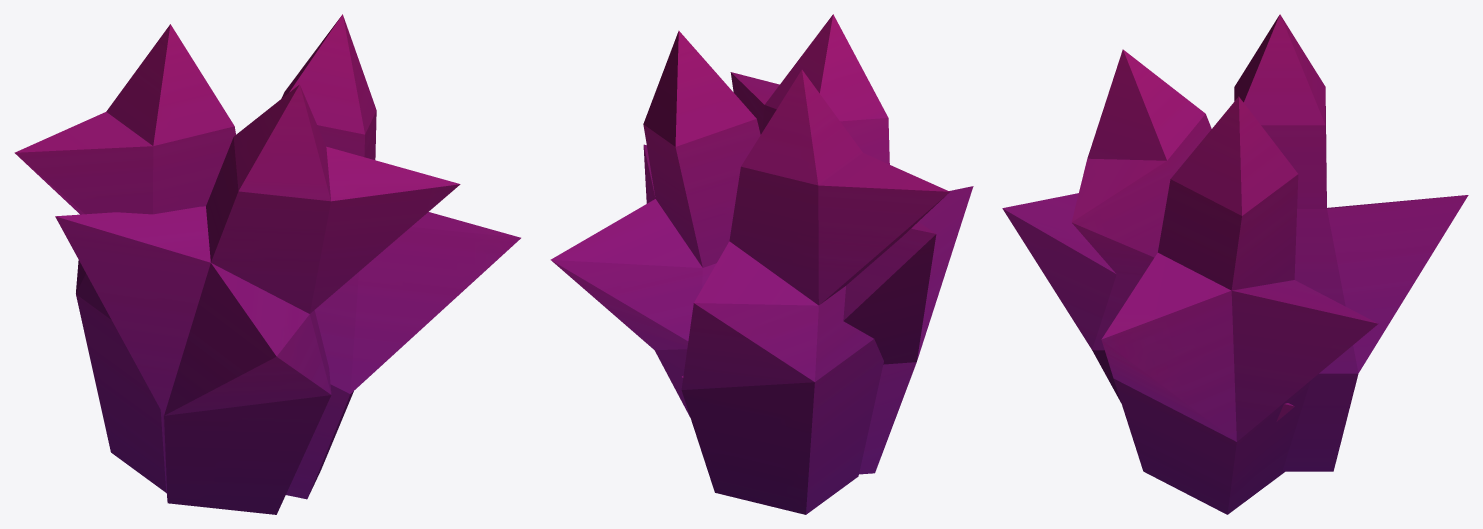
File: Asset_Cristales.fbx
3 views of the same model, side by side, from view 1: azimuth 30°, elevation 25°; view 2: azimuth 150°, elevation 25°; view 3: azimuth 270°, elevation 25° (orthographic). The views are drawn at different scales.
Visible parts, largest first — view 1: prop_cristal_gigante; view 2: prop_cristal_gigante; view 3: prop_cristal_gigante.
Boxes of the visible parts, x1,y1,x2,y2 form: prop_cristal_gigante: [14, 14, 520, 514]; prop_cristal_gigante: [550, 14, 973, 514]; prop_cristal_gigante: [1002, 14, 1468, 514].
Size of the model in its own units: 202 by 213 by 203.
